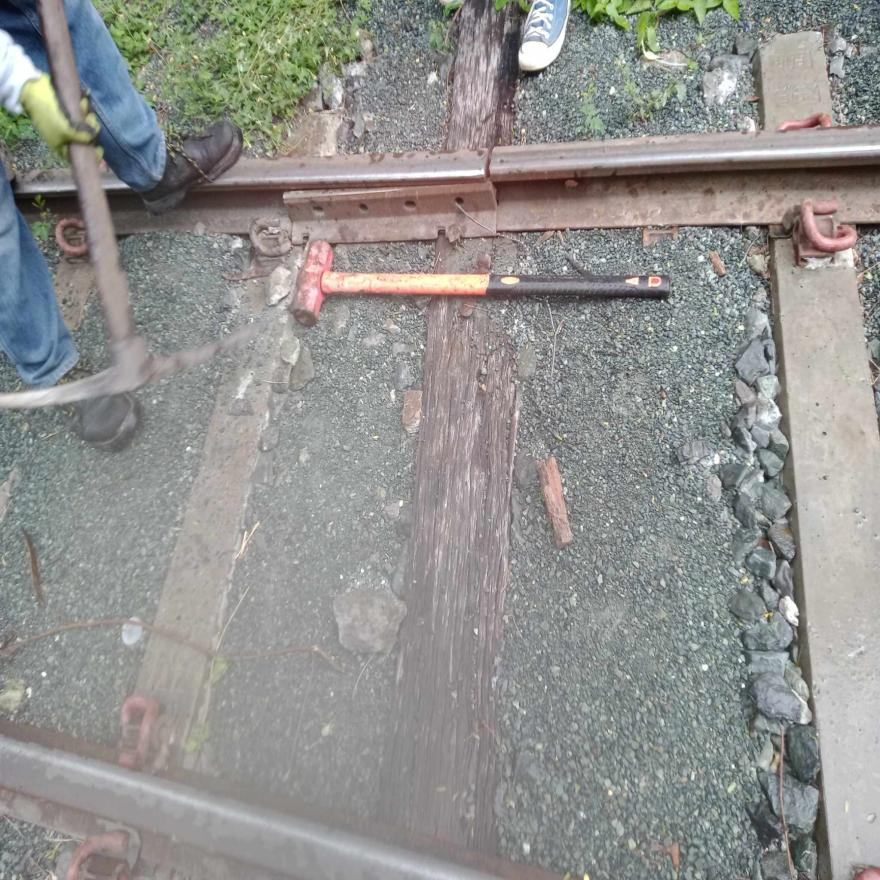railway-gap: (454, 133, 536, 240)
